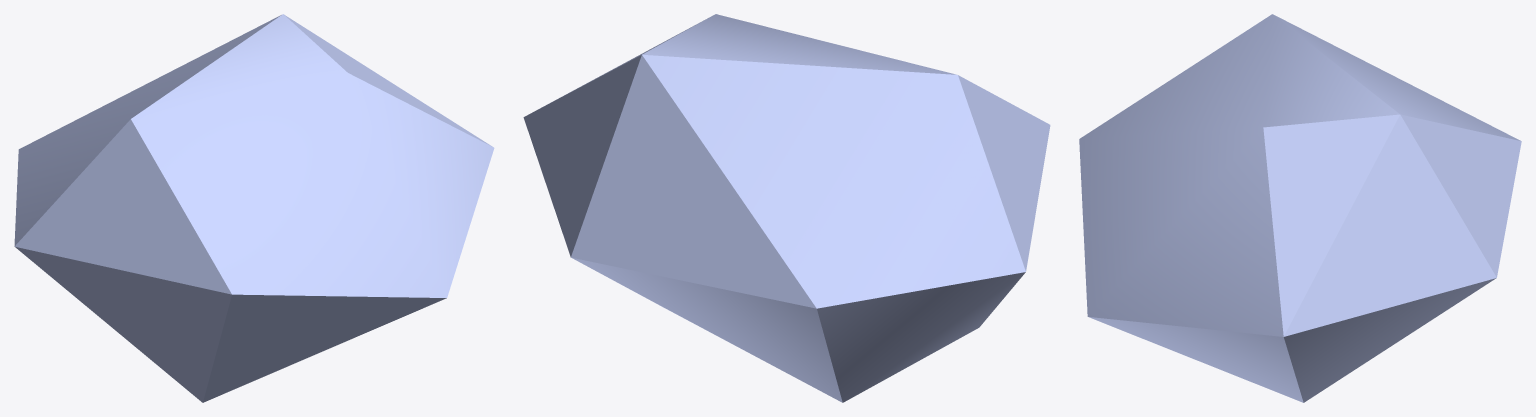
File: SnowPileLightSmall.fbx
3 renders of one model, left to right at view 1: azimuth 30°, elevation 25°; view 2: azimuth 150°, elevation 25°; view 3: azimuth 270°, elevation 25°, orthographic. The views are drawn at different scales.
Parts seen in each view (by area): view 1: SnowPileLightSmall; view 2: SnowPileLightSmall; view 3: SnowPileLightSmall.
Part boxes in pixels (x1,y1,x2,y2): SnowPileLightSmall: (14, 14, 494, 402); SnowPileLightSmall: (523, 14, 1050, 402); SnowPileLightSmall: (1079, 14, 1521, 402).
Bounding box in the file's own units: 727 × 406 × 572.
